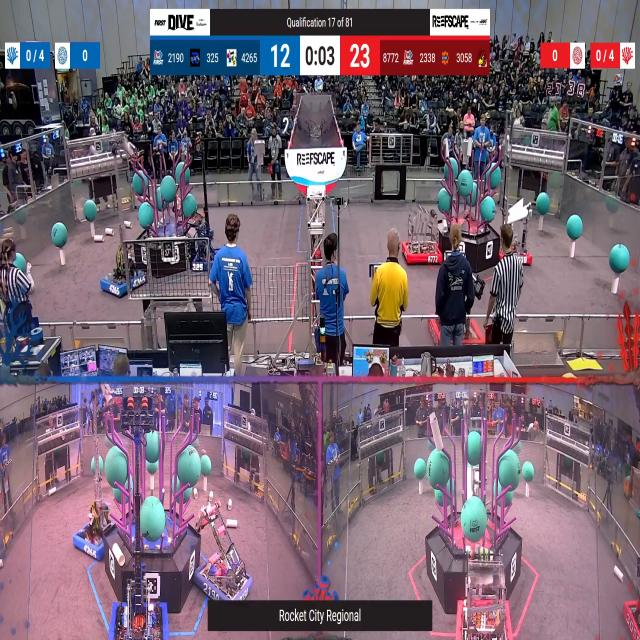scoreboard: (151, 36, 490, 76)
